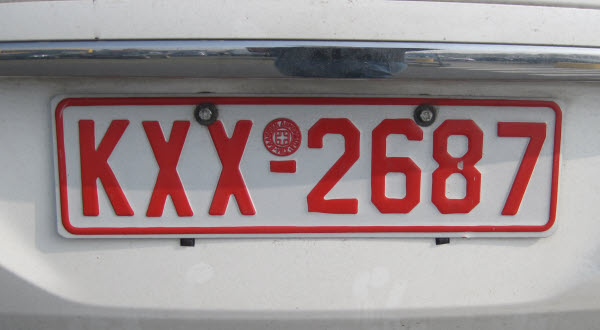license_plate: (53, 96, 564, 236)
